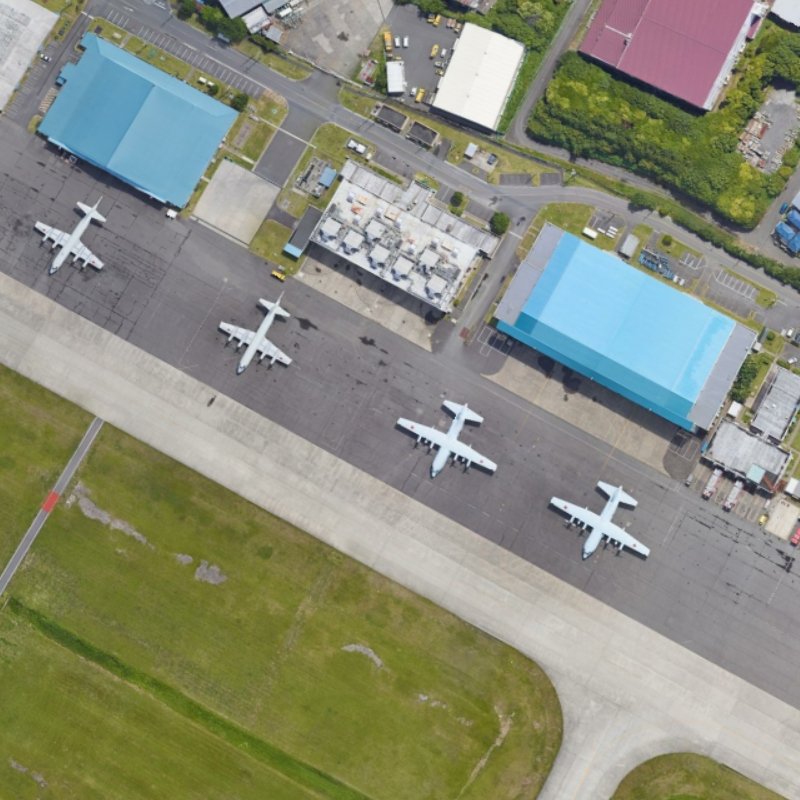A2: (384, 388, 505, 492), (540, 472, 663, 568)
A9: (21, 189, 121, 278), (210, 285, 302, 378)
